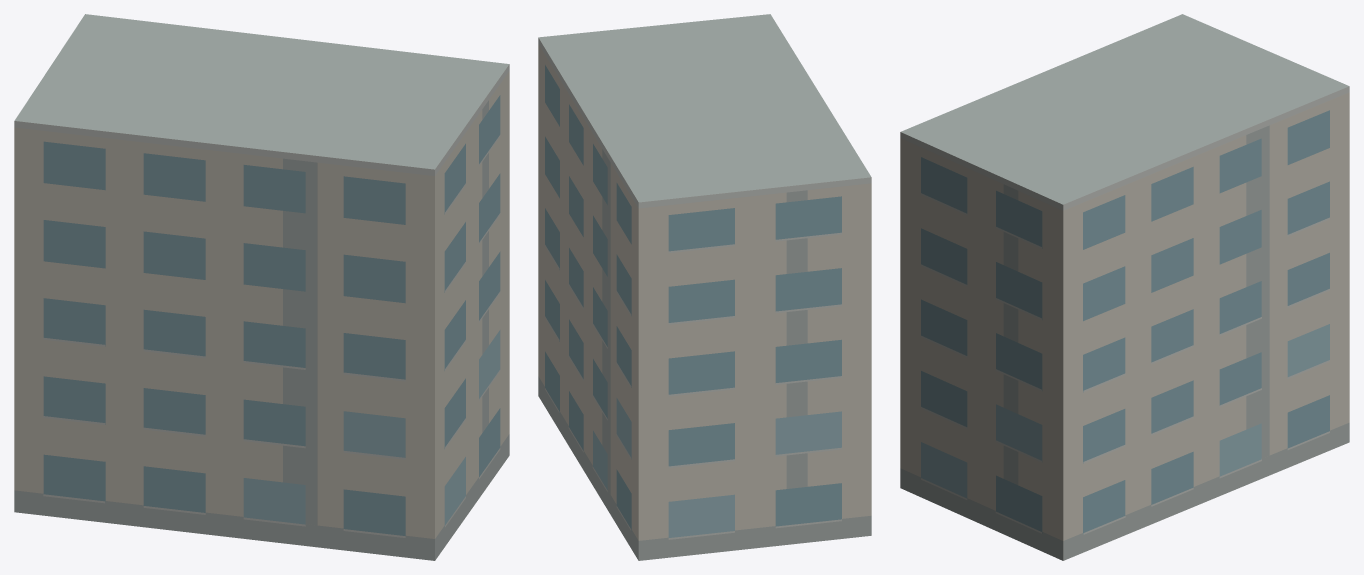
File: survey-upis-32881786.glb
3 renders of one model, left to right at view 1: azimuth 30°, elevation 25°; view 2: azimuth 150°, elevation 25°; view 3: azimuth 270°, elevation 25°, orthographic. The views are drawn at different scales.
Parts seen in each view (by area): view 1: survey-upis-32881786.tmp; view 2: survey-upis-32881786.tmp; view 3: survey-upis-32881786.tmp.
Boxes of the visible parts, x1,y1,x2,y2 form: survey-upis-32881786.tmp: (14,14,509,560); survey-upis-32881786.tmp: (538,14,871,560); survey-upis-32881786.tmp: (900,14,1349,560).
Size of the model in its own units: 16.55 by 14.4 by 16.47.
